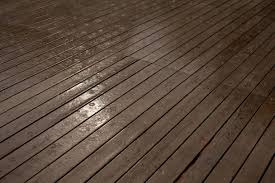Wet-floor: (0, 3, 275, 183)
